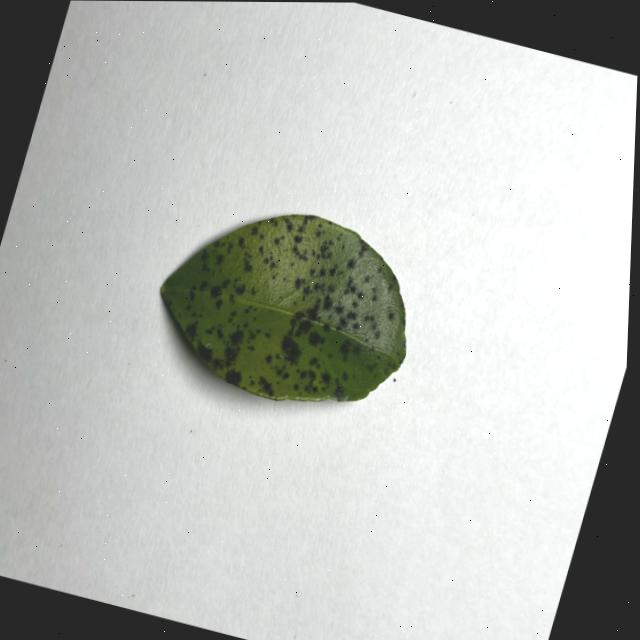sooty_mold: (162, 213, 405, 400)
